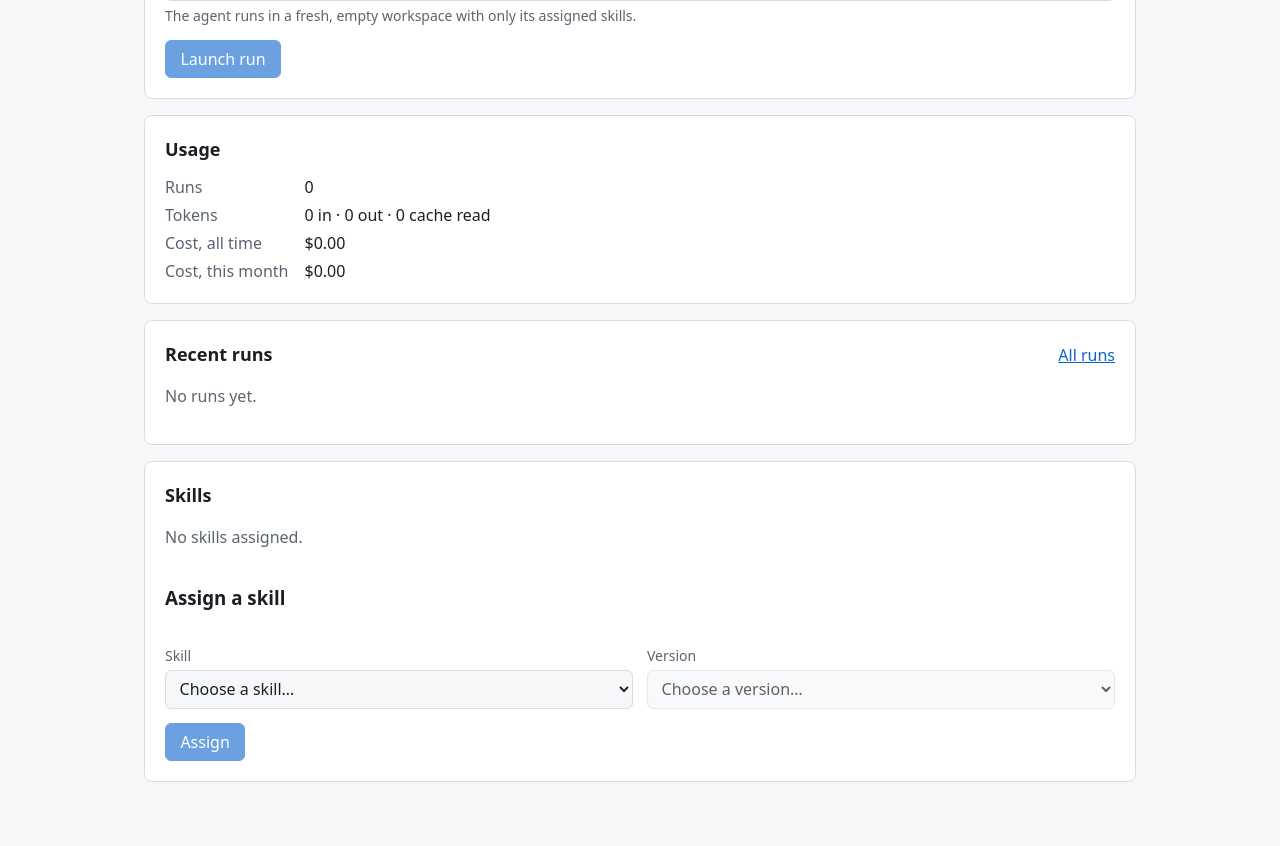
Test: agent loadout › lists each permission the sandbox profile refuses
(page scrolled)
Select "Fetch packages" in the dropdown labelled "Skill" at [399, 689], box [165,670,633,709]
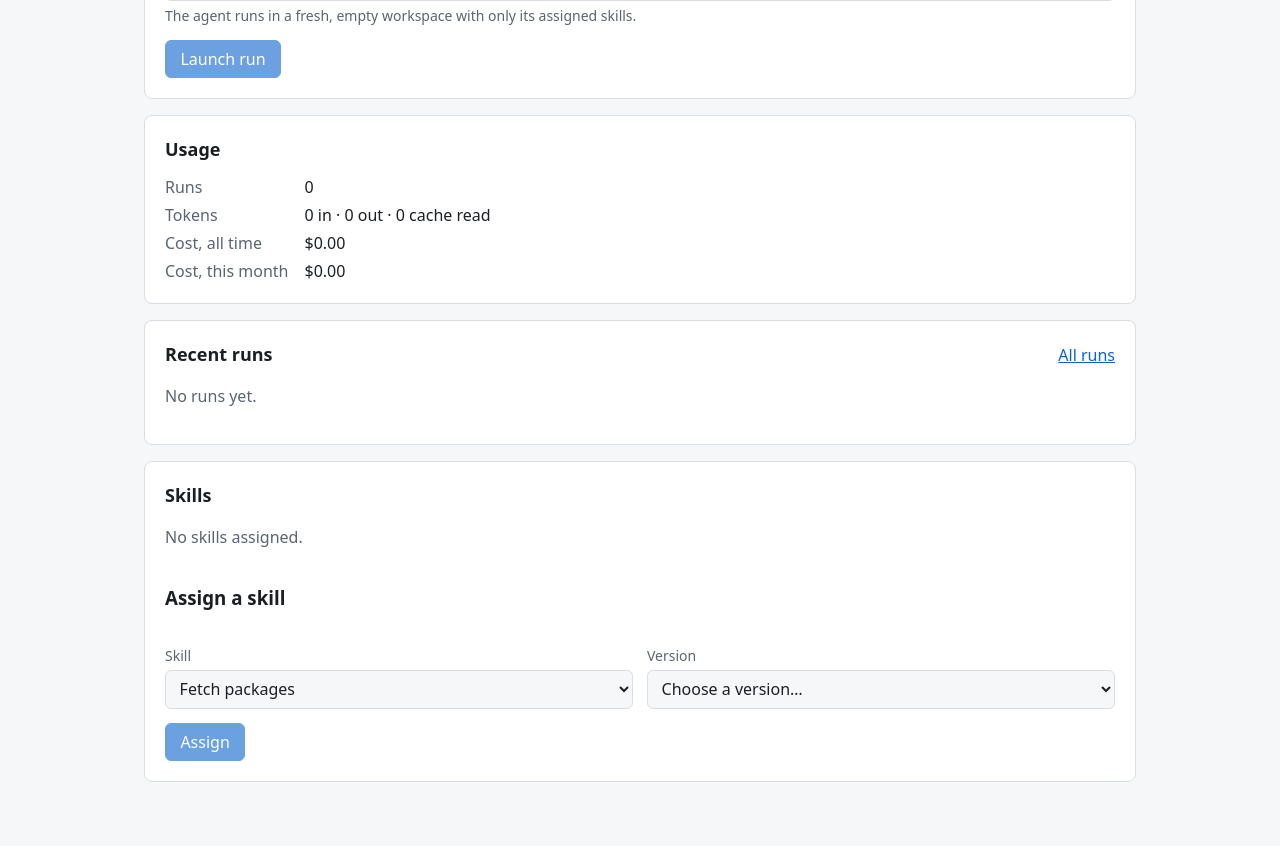
Select "1.0.0" in the dropdown labelled "Version" at [881, 689], box [647,670,1115,709]
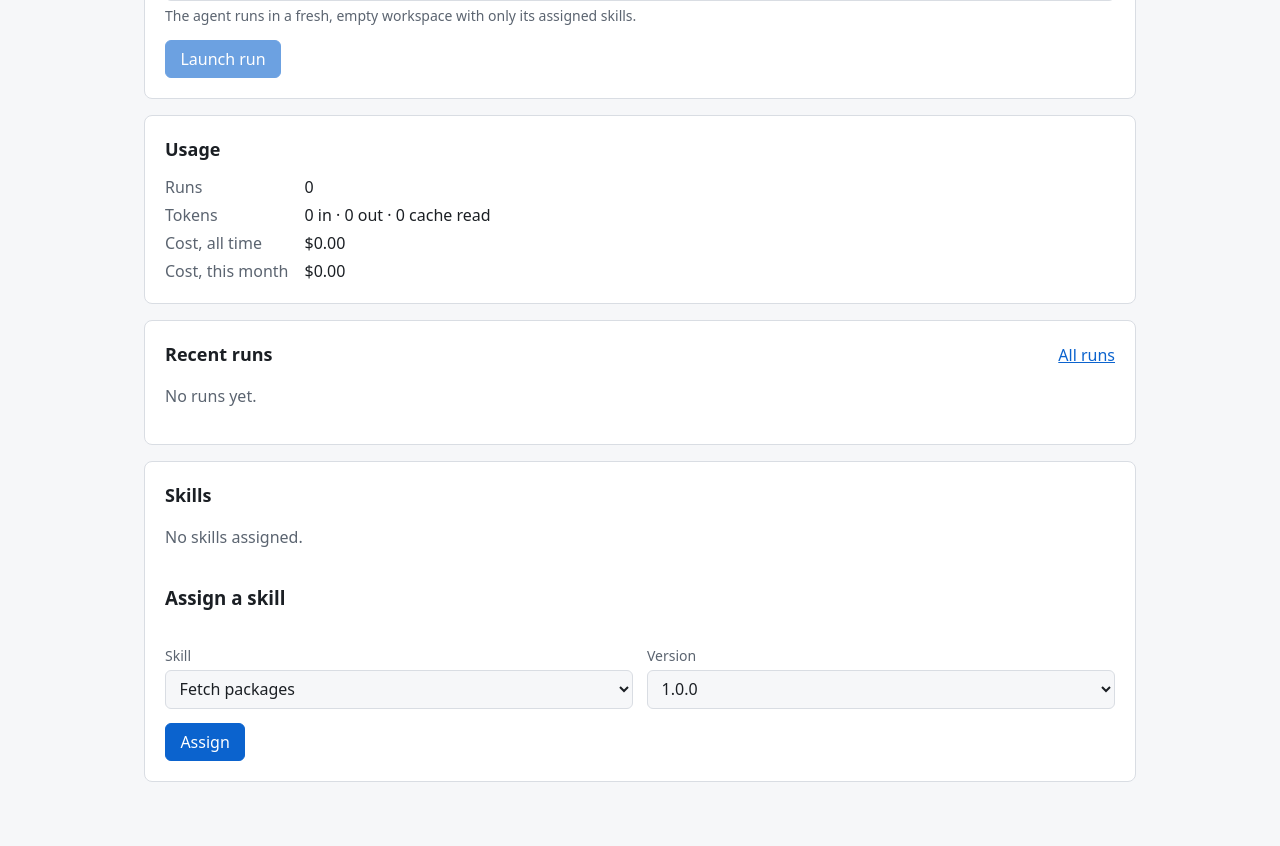
Click the button "Assign".
click(205, 742)  # box [165,723,245,761]
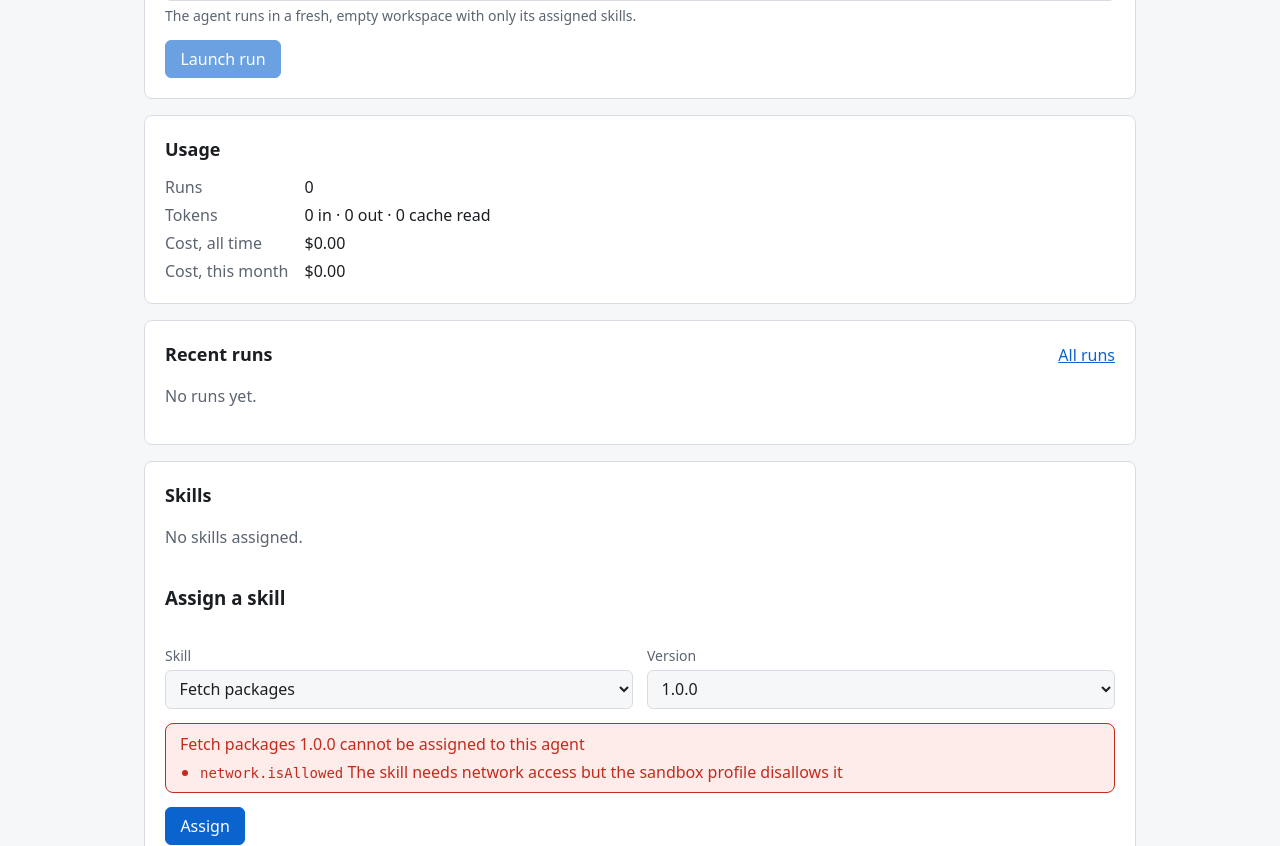
Check: the message shows "cannot be assigned", box [180,733,585,755]
Check: the message shows "network.isAllowed", box [200,765,343,781]
